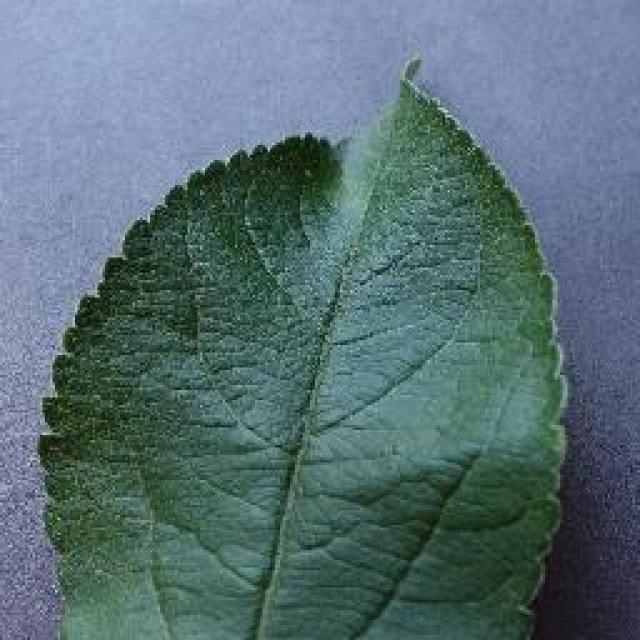apple healthy: (35, 52, 570, 638)
